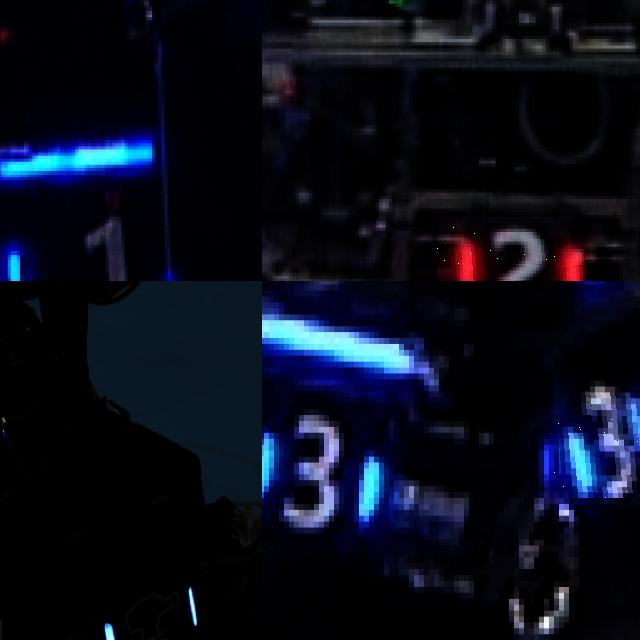B3: (262, 403, 384, 539), (554, 373, 640, 498)
Bs: (102, 582, 202, 640)
R2: (437, 216, 583, 281)
